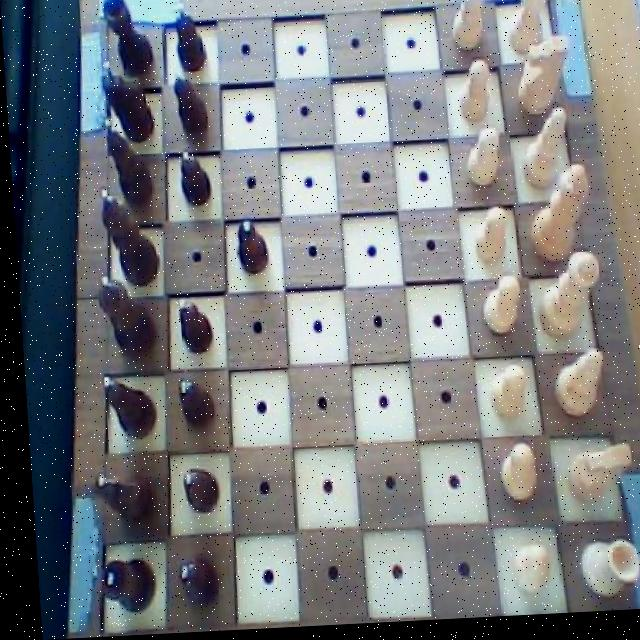bishop: (101, 116, 158, 212), (92, 372, 154, 447)
black-bishop: (93, 183, 160, 287)
black-king: (95, 60, 157, 148), (84, 469, 151, 532)
black-knight: (171, 67, 211, 143), (170, 295, 214, 360), (171, 1, 209, 76), (169, 375, 214, 436), (169, 557, 216, 615), (230, 217, 269, 280), (174, 147, 211, 210), (174, 468, 217, 520)
black-pawn: (88, 273, 155, 366)
black-queen: (97, 0, 156, 84), (88, 551, 151, 617)
black-rook: (513, 111, 575, 200), (544, 352, 604, 429)
white-bishop: (521, 167, 591, 271)
white-king: (509, 38, 574, 126), (557, 443, 631, 519)
white-knight: (490, 446, 535, 516), (477, 367, 524, 431), (473, 277, 519, 342), (459, 129, 502, 195), (499, 545, 546, 604), (453, 63, 494, 130), (445, 0, 489, 61), (467, 209, 509, 272)
white-pawn: (528, 251, 602, 349)
white-queen: (568, 540, 636, 607), (500, 0, 560, 64)
